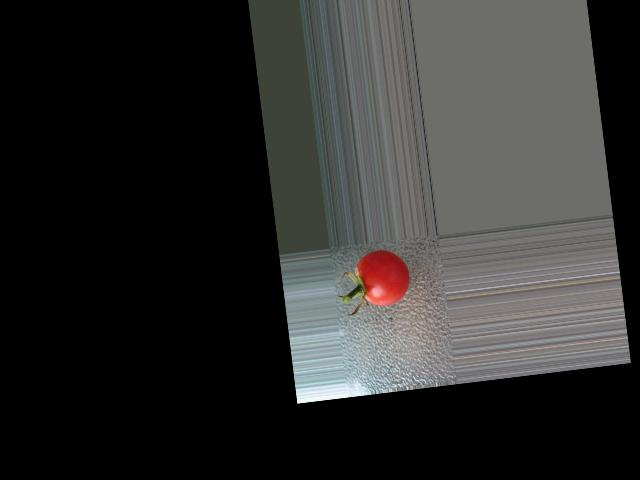tomato: (355, 247, 413, 309)
